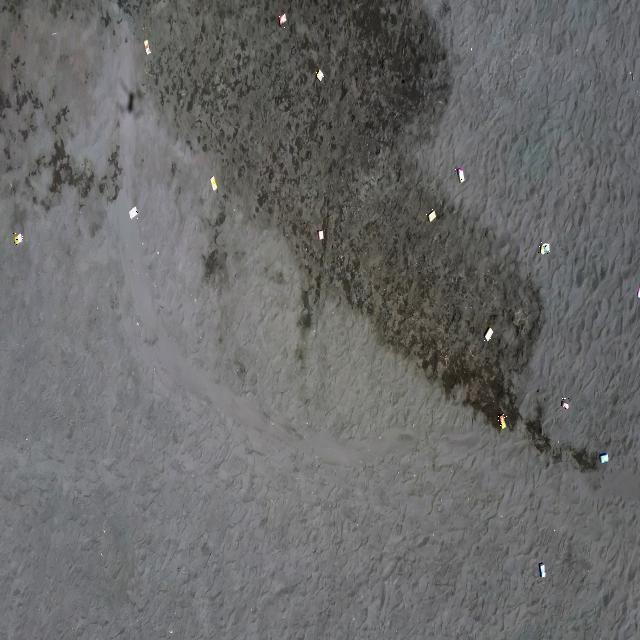retort-pouch: (277, 11, 288, 28), (455, 166, 466, 182), (142, 39, 152, 56), (484, 326, 494, 342), (209, 174, 219, 190), (536, 560, 546, 576), (497, 414, 507, 429), (538, 242, 550, 254), (12, 233, 23, 245), (598, 452, 609, 464), (129, 206, 139, 219), (316, 229, 326, 242), (315, 68, 325, 81), (426, 209, 436, 222), (560, 398, 569, 410), (635, 288, 640, 297)
